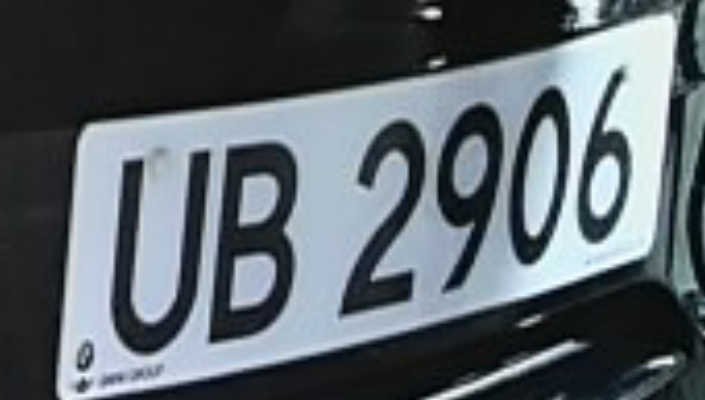0: (504, 81, 576, 271)
2: (331, 99, 429, 329)
6: (570, 59, 641, 249)
9: (428, 94, 510, 299)
B: (206, 121, 308, 355)
U: (99, 141, 206, 368)
